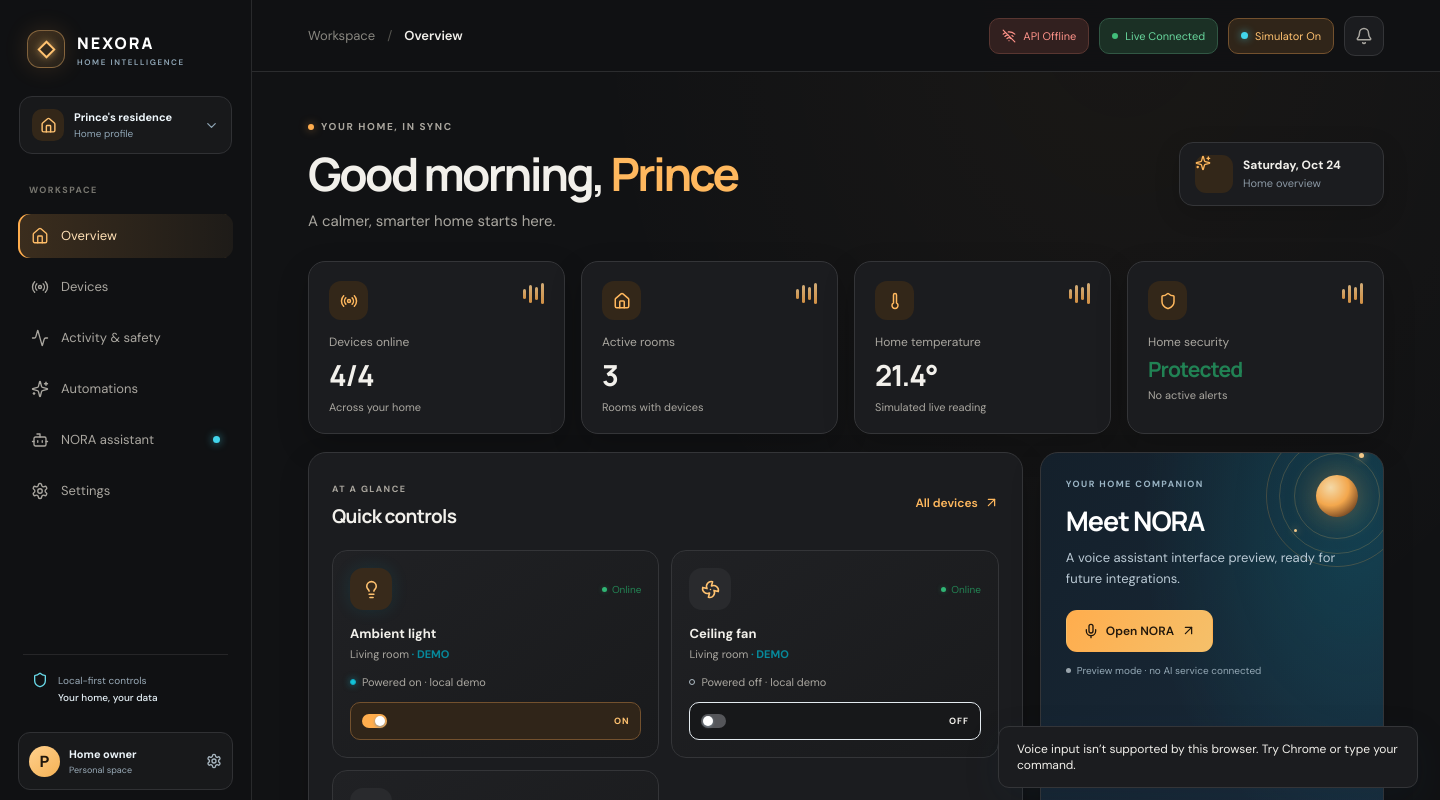
NEXORA dashboard › keeps local demo controls available when the backend is unreachable
Check: the text "API offline" is shown, box [1023,28,1076,42]
Check: the text "Ambient light" is shown, box [350,625,436,642]
Step 1. Click the button with aria-label "Turn off Ambient light" → (374, 721), box [350,702,641,740]
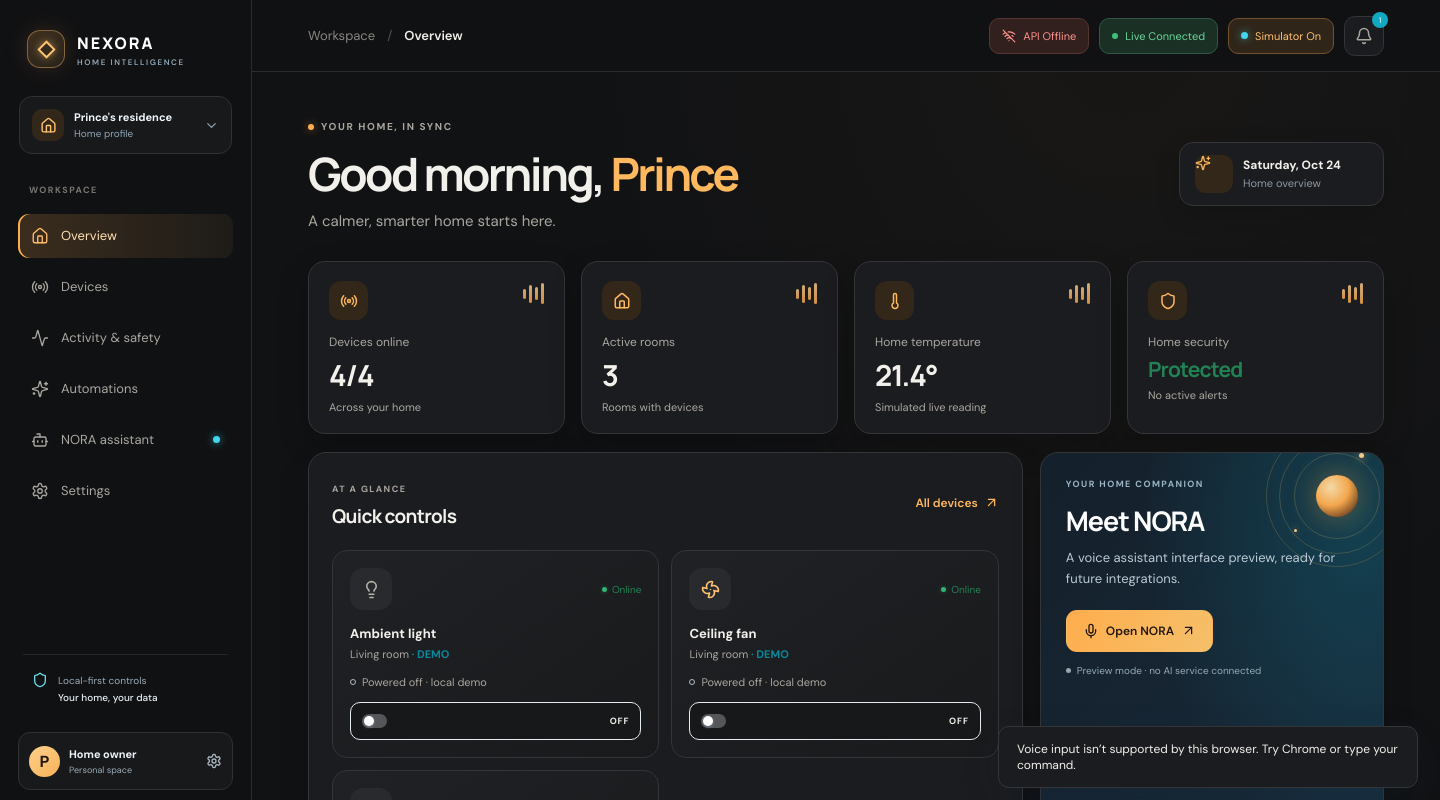
Check: the text "Powered off · local demo" is shown, box [350,675,487,689]
